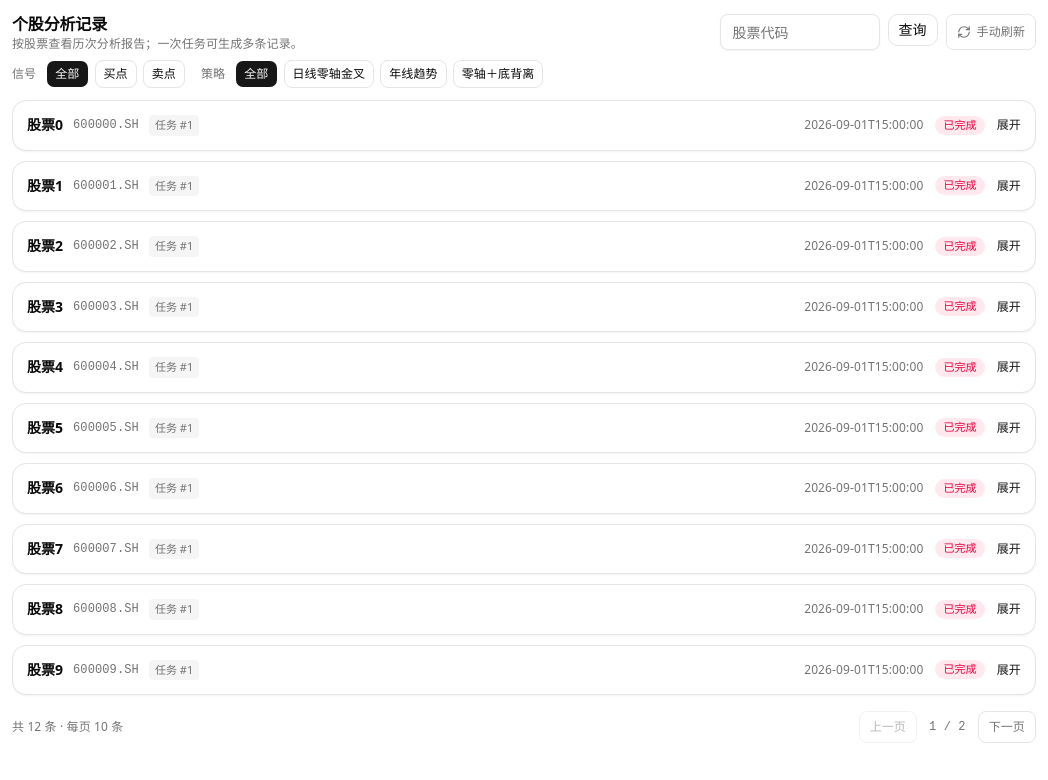
Test case: analysis records pagination › returns to the previous page
Click the button "下一页": (1007, 727) left=978, top=711, right=1036, bottom=743
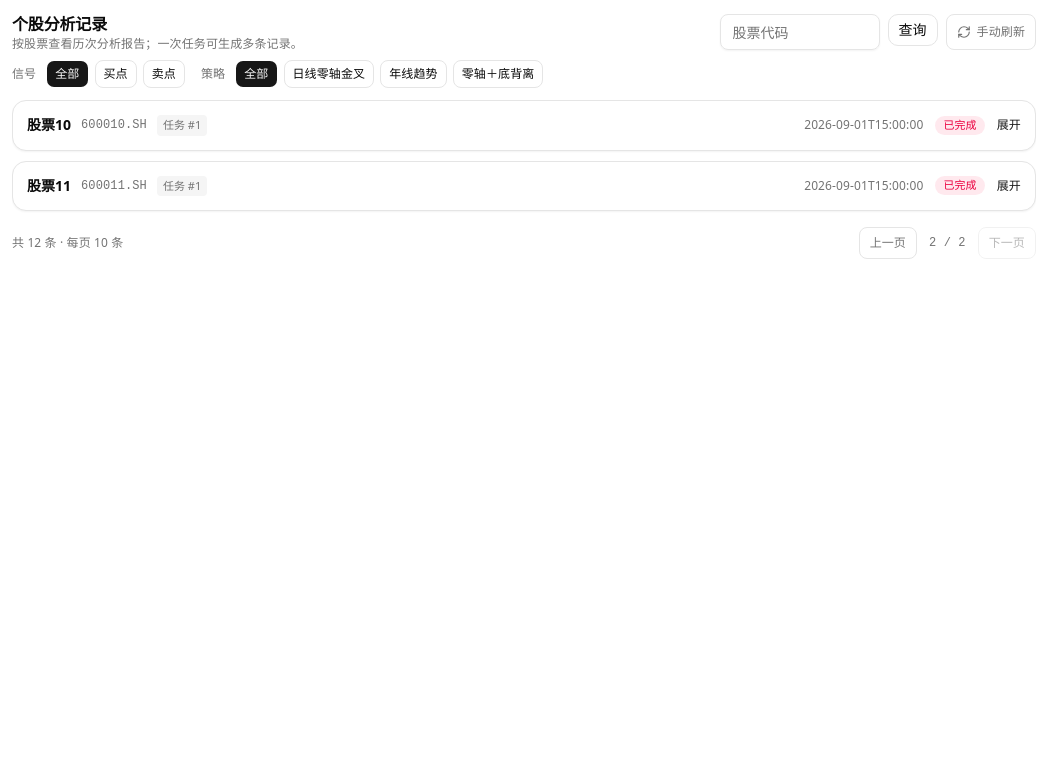
Click the button "上一页": (888, 243) left=859, top=227, right=917, bottom=259
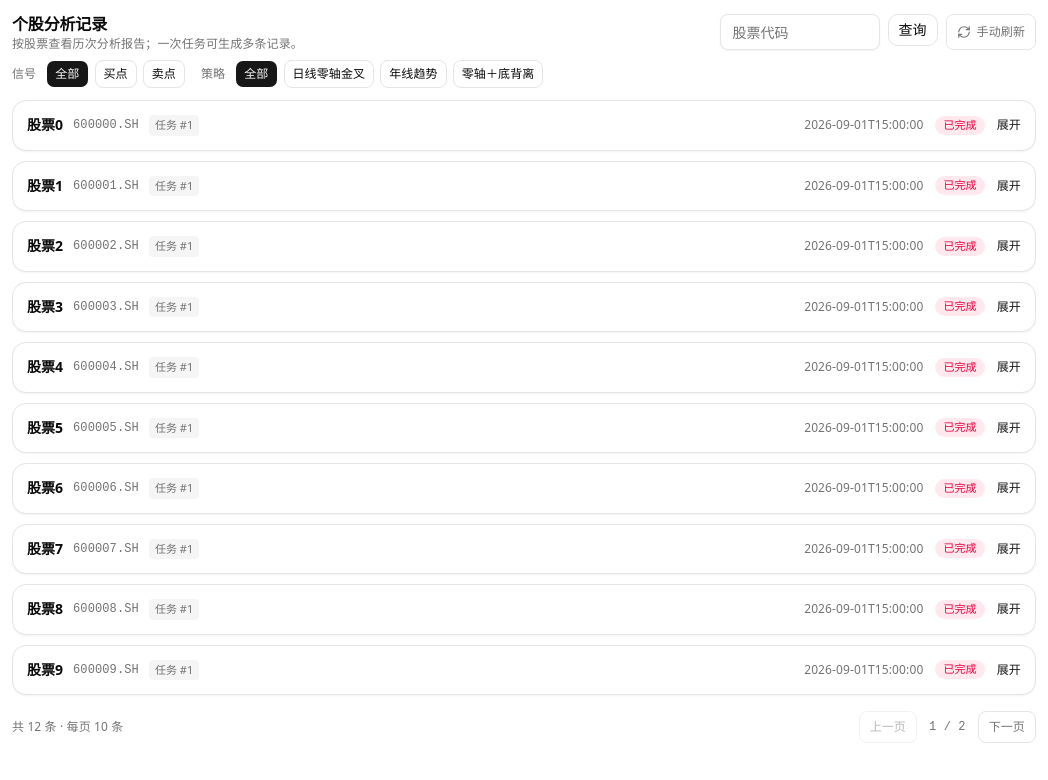
Check: the text "股票0" is shown, box left=27, top=115, right=63, bottom=135
Check: the text "股票10" is gone
